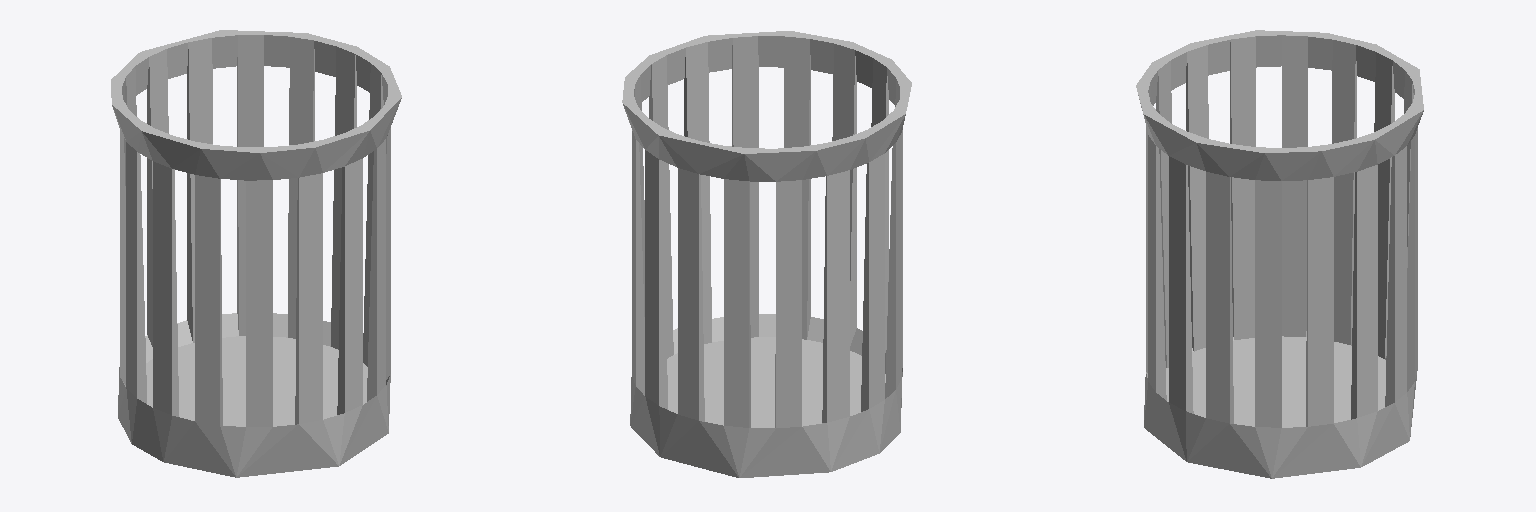
Rendered from Trash.obj.
3 renders of one model, left to right at view 1: azimuth 30°, elevation 25°; view 2: azimuth 150°, elevation 25°; view 3: azimuth 270°, elevation 25°, orthographic.
Parts seen in each view (by area): view 1: Cylinder; view 2: Cylinder; view 3: Cylinder.
Part boxes in pixels (bbox=[...]): Cylinder: bbox=[111, 30, 401, 477]; Cylinder: bbox=[622, 31, 911, 477]; Cylinder: bbox=[1136, 30, 1423, 478].
Size of the model in its own units: 1.29 by 1.6 by 1.27.